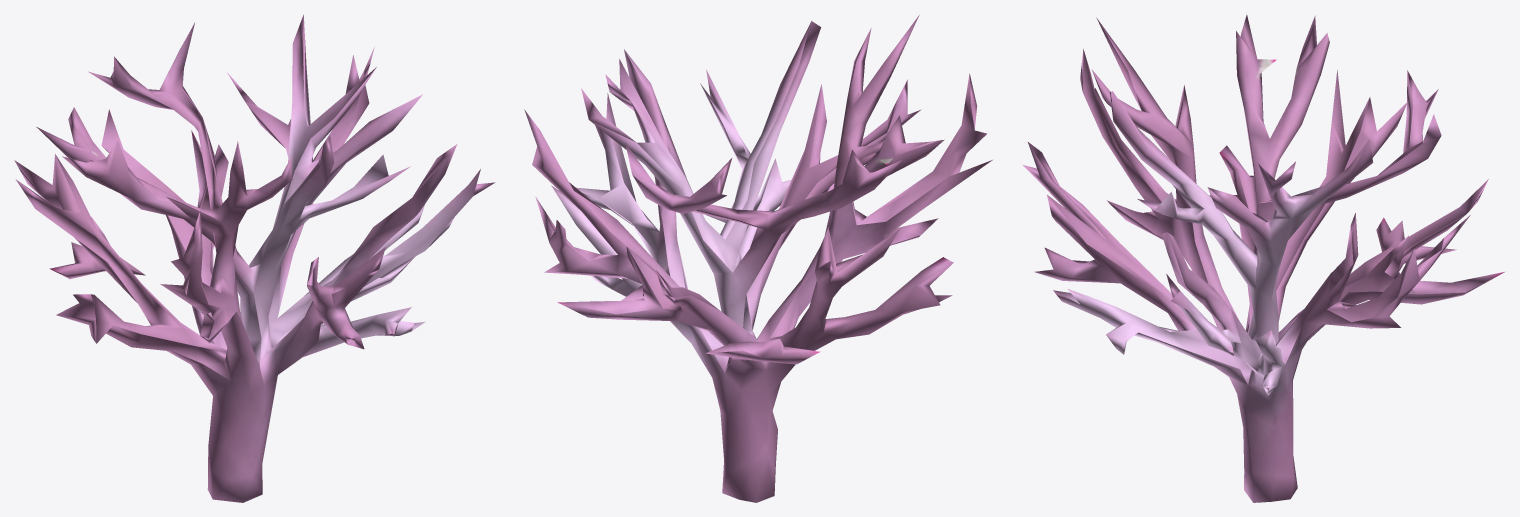
File: coral-staghorn.glb
The picture shows the model from 3 angles, left to right: view 1: azimuth 30°, elevation 25°; view 2: azimuth 150°, elevation 25°; view 3: azimuth 270°, elevation 25°; orthographic projection.
Visible parts, largest first — view 1: Mesh_0; view 2: Mesh_0; view 3: Mesh_0.
Part boxes in pixels (x1,y1,x2,y2): Mesh_0: [14, 14, 495, 502]; Mesh_0: [524, 15, 992, 502]; Mesh_0: [1023, 14, 1505, 502].
Size of the model in its own units: 1.51 by 1.59 by 1.6.
Materials: 1 (1 with a texture image).
